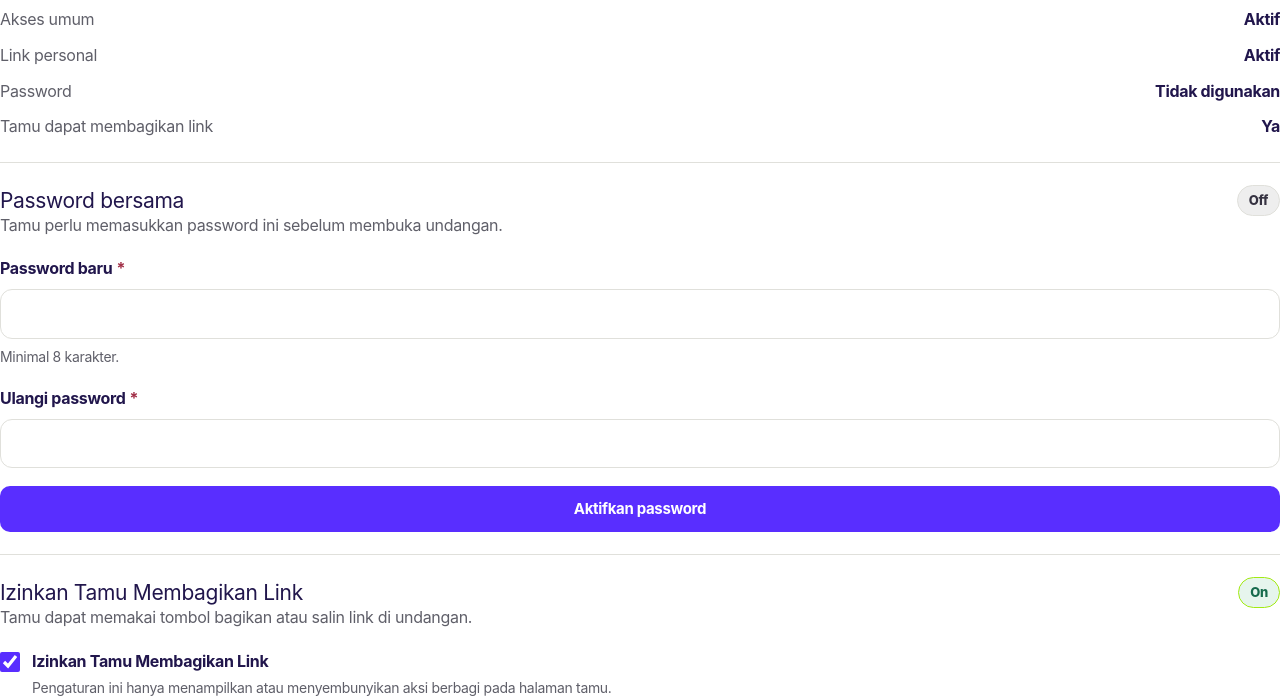
Test: InvitationPasswordForm guest sharing control › autosaves the guest-sharing setting and updates the access summary
The image size is (1280, 699).
(page scrolled)
Click the checkbox labelled "Izinkan Tamu Membagikan Link": (10, 662) [0, 652, 20, 672]
(page scrolled)
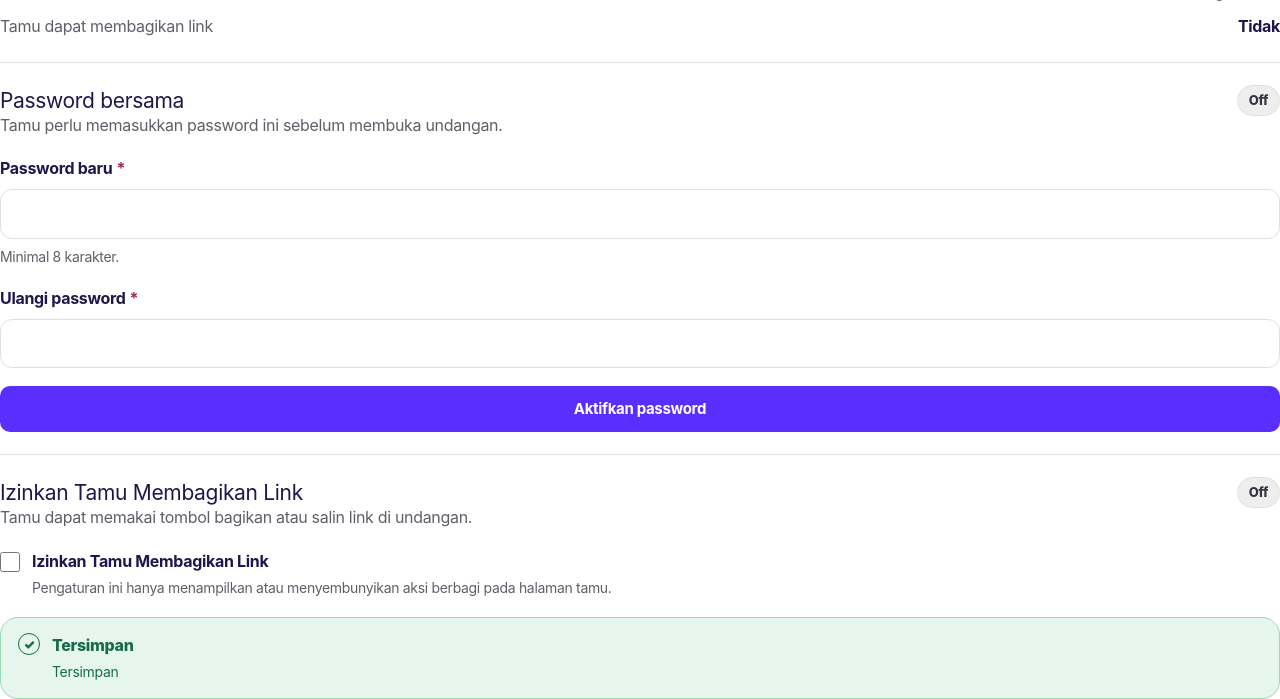
expect the 1st text "Tersimpan" is shown: met, box [52, 633, 134, 658]
